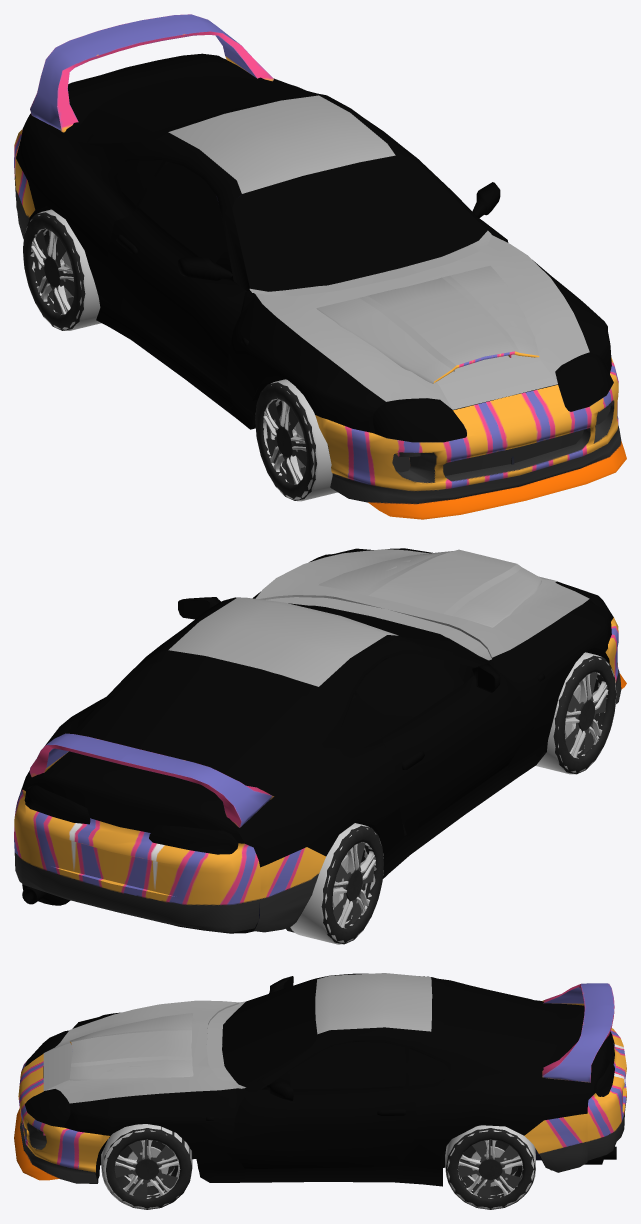
The model's file is sup_1.fbx.
3 renders of one model, top to bottom at view 1: azimuth 30°, elevation 25°; view 2: azimuth 150°, elevation 25°; view 3: azimuth 270°, elevation 25°, orthographic. The views are drawn at different scales.
Visible parts, largest first — view 1: back_eyes.004, airtake2, polySurface7, spoiler.002, Weel_hold.011, Weel_hold.012, whee_sexyF_L, wheel_sexyB_R, polySurface9; view 2: back_eyes.004, airtake2, polySurface9, spoiler.002, Weel_hold.012, Weel_hold.011, wheel_sexyB_R, whee_sexyF_L, polySurface7; view 3: back_eyes.004, airtake2, polySurface7, polySurface9, Weel_hold.010, Weel_hold.002, spoiler.002, wheel_sexyF_R, wheel_sexyB_L.
Part boxes in pixels (left/top/right/bottom): back_eyes.004: left=16, top=53, right=613, bottom=502; airtake2: left=168, top=95, right=589, bottom=409; polySurface7: left=315, top=357, right=626, bottom=519; spoiler.002: left=30, top=14, right=273, bottom=132; Weel_hold.011: left=23, top=212, right=85, bottom=330; Weel_hold.012: left=255, top=382, right=316, bottom=500; whee_sexyF_L: left=256, top=379, right=337, bottom=501; wheel_sexyB_R: left=23, top=209, right=101, bottom=330; polySurface9: left=14, top=129, right=35, bottom=238; back_eyes.004: left=18, top=548, right=618, bottom=933; airtake2: left=168, top=549, right=589, bottom=686; polySurface9: left=14, top=789, right=325, bottom=932; spoiler.002: left=29, top=733, right=274, bottom=827; Weel_hold.012: left=553, top=655, right=616, bottom=774; Weel_hold.011: left=286, top=825, right=383, bottom=944; wheel_sexyB_R: left=290, top=823, right=383, bottom=944; whee_sexyF_L: left=535, top=652, right=616, bottom=774; polySurface7: left=605, top=617, right=626, bottom=704; back_eyes.004: left=25, top=973, right=616, bottom=1186; airtake2: left=43, top=973, right=432, bottom=1103; polySurface7: left=14, top=1054, right=110, bottom=1183; polySurface9: left=524, top=1028, right=626, bottom=1172; Weel_hold.010: left=446, top=1128, right=535, bottom=1209; Weel_hold.002: left=102, top=1126, right=192, bottom=1209; spoiler.002: left=542, top=983, right=614, bottom=1082; wheel_sexyF_R: left=101, top=1124, right=191, bottom=1209; wheel_sexyB_L: left=445, top=1125, right=535, bottom=1208.
Size of the model in its own units: 208 by 135 by 470.
